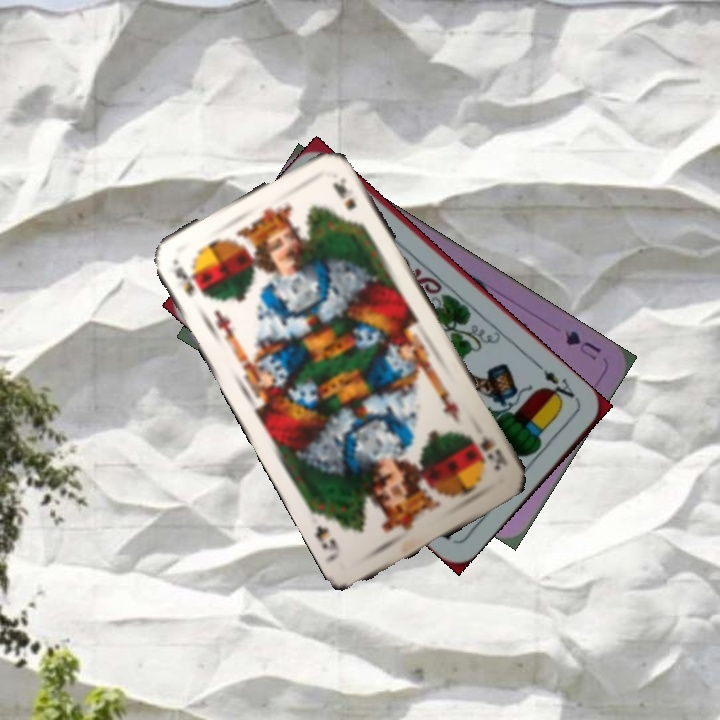EA: (533, 360, 582, 406)
GU: (560, 326, 604, 363)
SK: (475, 431, 510, 474), (170, 262, 208, 301)
